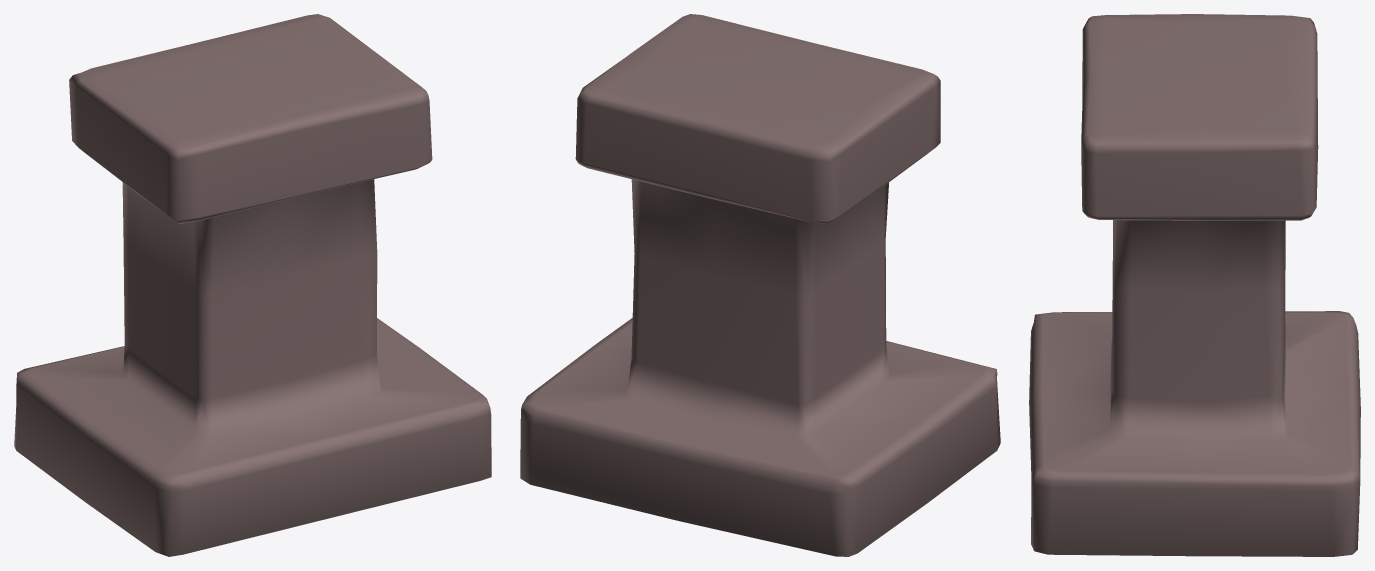
The model's file is Pedastal.fbx.
3 views of the same model, side by side, from view 1: azimuth 30°, elevation 25°; view 2: azimuth 150°, elevation 25°; view 3: azimuth 270°, elevation 25° (orthographic). The views are drawn at different scales.
Visible parts, largest first — view 1: SM_gargoyle; view 2: SM_gargoyle; view 3: SM_gargoyle.
Part boxes in pixels (bbox=[...]): SM_gargoyle: bbox=[14, 14, 491, 556]; SM_gargoyle: bbox=[520, 14, 1000, 556]; SM_gargoyle: bbox=[1029, 14, 1360, 556].
Bounding box in the file's own units: 90.31 × 99.01 × 74.68.
